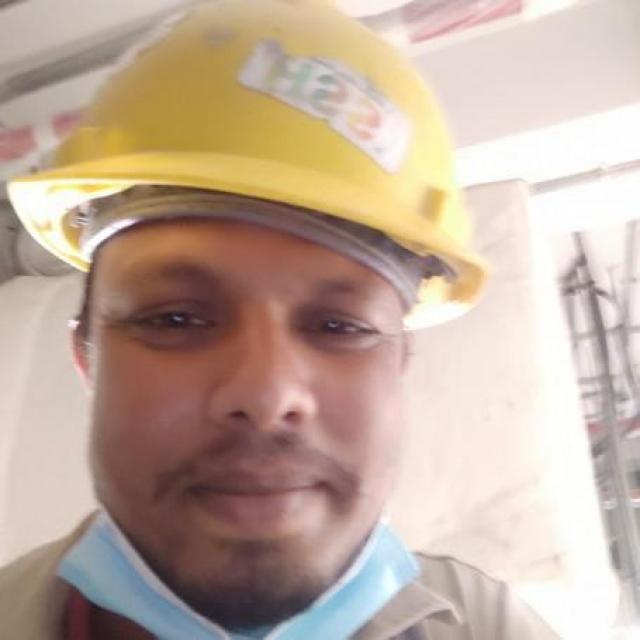helmet: (7, 1, 494, 333)
